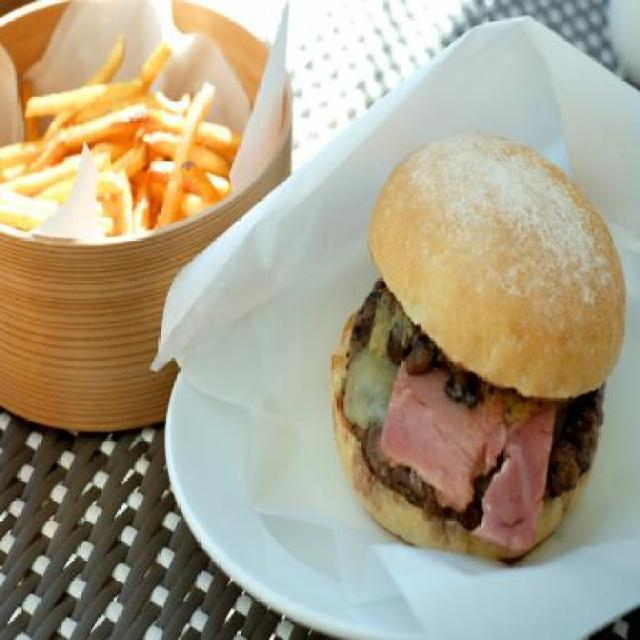Hamburger: (328, 132, 624, 564)
